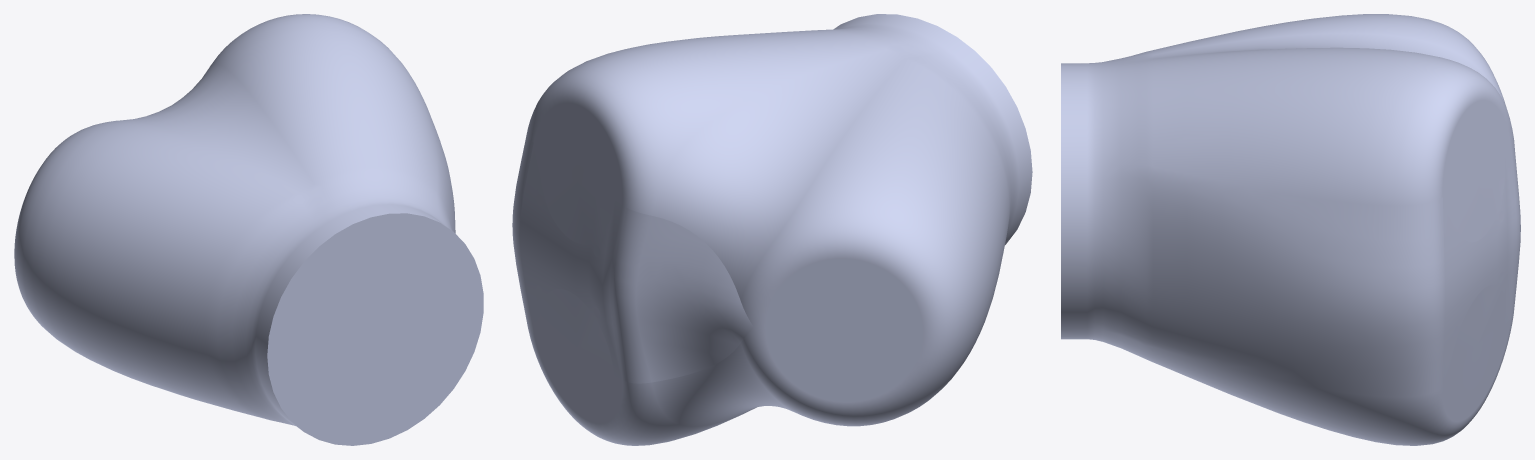
The model's file is link_hand.dae.
3 views of the same model, side by side, from view 1: azimuth 30°, elevation 25°; view 2: azimuth 150°, elevation 25°; view 3: azimuth 270°, elevation 25° (orthographic). The views are drawn at different scales.
Visible parts, largest first — view 1: Actor0; view 2: Actor0; view 3: Actor0.
Part boxes in pixels (left/top/right/bottom): Actor0: left=14, top=14, right=483, bottom=445; Actor0: left=512, top=14, right=1032, bottom=445; Actor0: left=1061, top=14, right=1520, bottom=445.
Size of the model in its own units: 0.1165 by 0.0928 by 0.1049.
